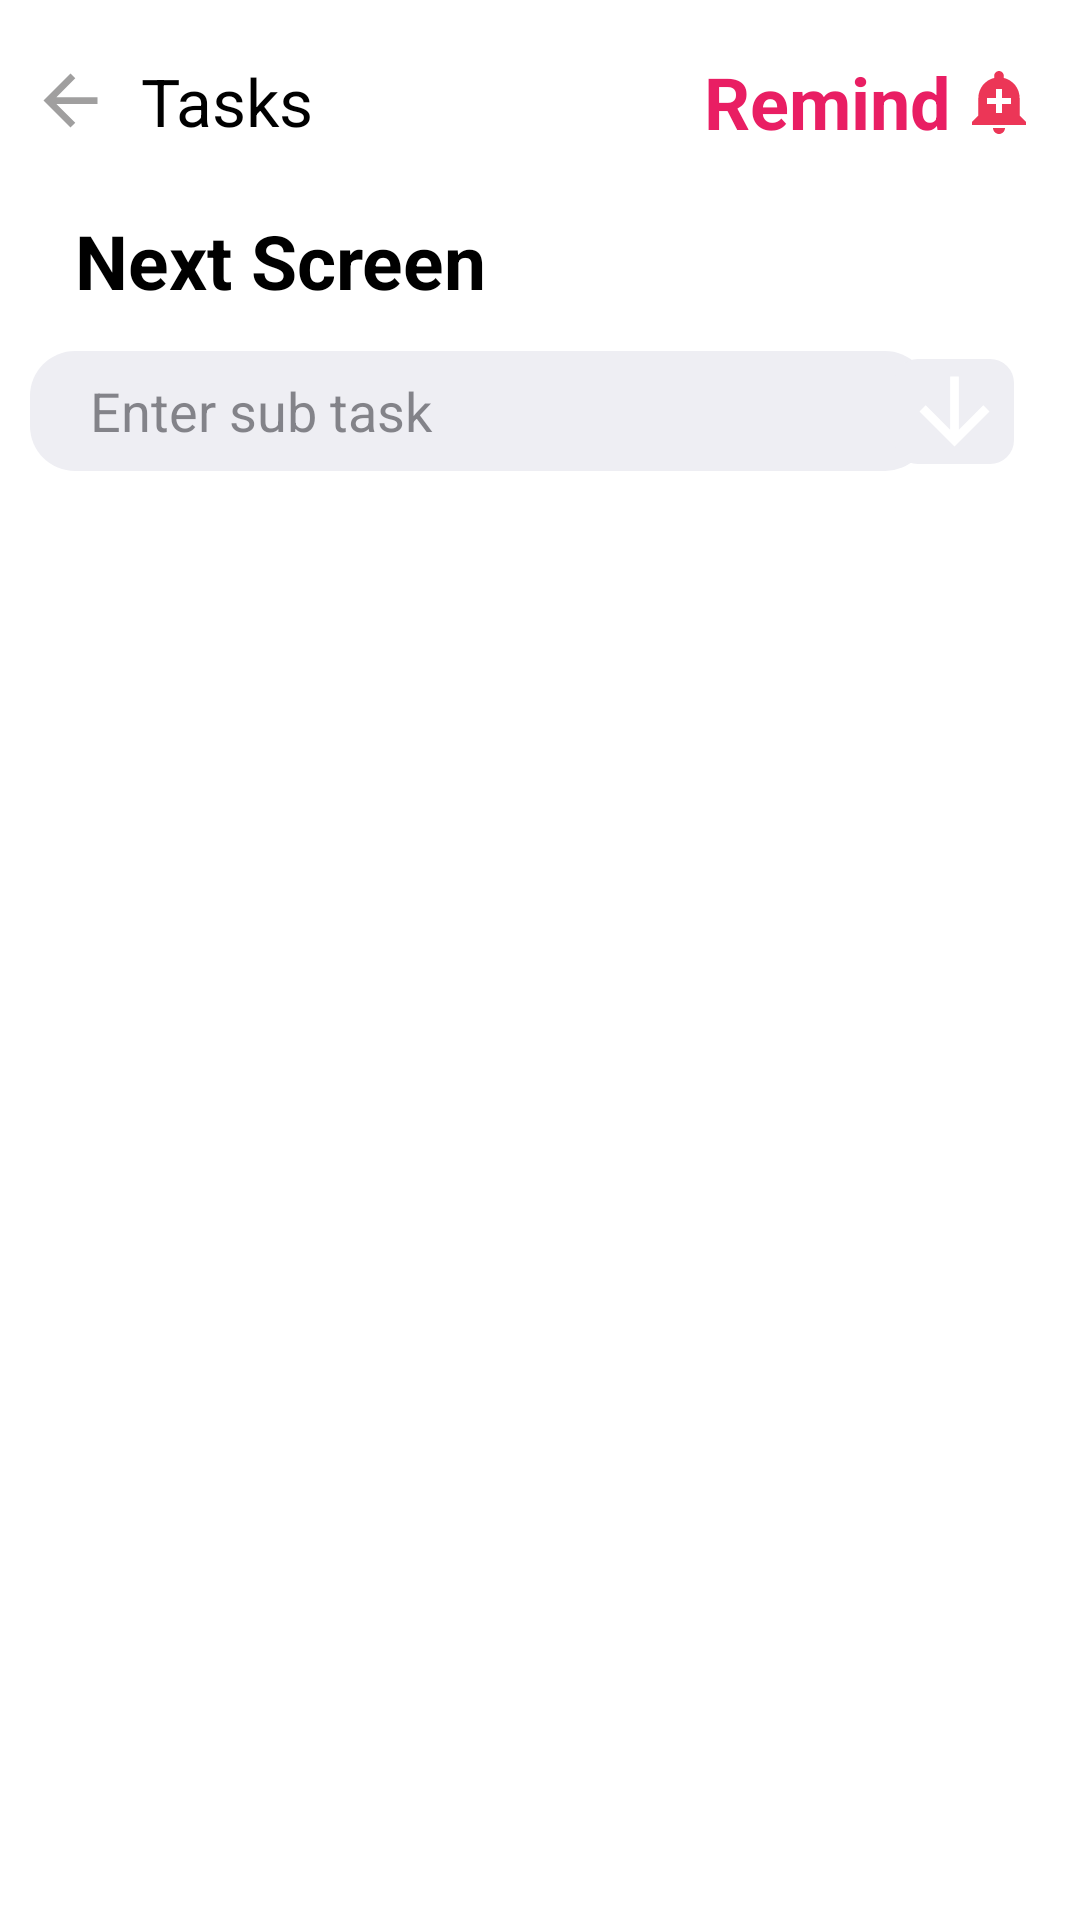

Screen size 1080px x 1920px. Icon name, then its center in pixels as (x=x, y=y):
arrow back: (x=71, y=100)
